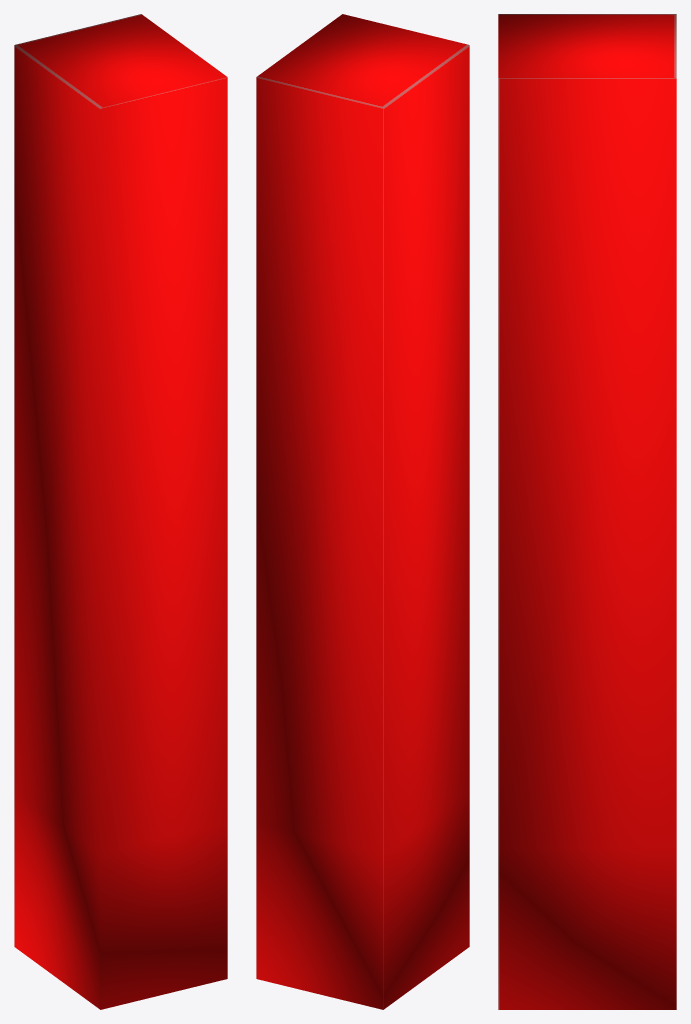
Rendered from smoothinggroups.obj.
The picture shows the model from 3 angles, left to right: view 1: azimuth 30°, elevation 25°; view 2: azimuth 150°, elevation 25°; view 3: azimuth 270°, elevation 25°; orthographic projection. The views are drawn at different scales.
Visible parts, largest first — view 1: smoothinggroups.obj; view 2: smoothinggroups.obj; view 3: smoothinggroups.obj.
Boxes of the visible parts, x1,y1,x2,y2 form: smoothinggroups.obj: [14, 14, 227, 1009]; smoothinggroups.obj: [256, 14, 469, 1009]; smoothinggroups.obj: [498, 14, 676, 1009].
Bounding box in the file's own units: 1.98 × 13.44 × 2.33.
